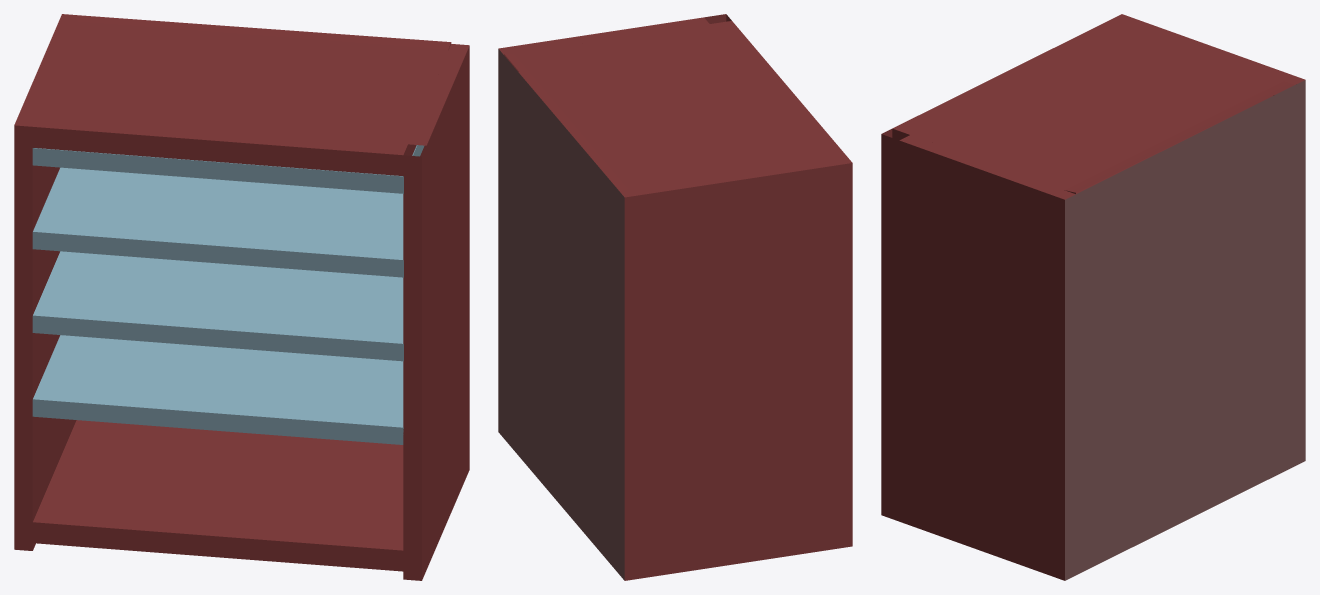
The model's file is MSH_QuestObject_cabinet_05.fbx.
3 renders of one model, left to right at view 1: azimuth 30°, elevation 25°; view 2: azimuth 150°, elevation 25°; view 3: azimuth 270°, elevation 25°, orthographic. The views are drawn at different scales.
Parts seen in each view (by area): view 1: MSH_QuestObject_cabinet_05; view 2: MSH_QuestObject_cabinet_05; view 3: MSH_QuestObject_cabinet_05.
Part boxes in pixels (bbox=[...]): MSH_QuestObject_cabinet_05: bbox=[14, 14, 469, 580]; MSH_QuestObject_cabinet_05: bbox=[498, 14, 852, 580]; MSH_QuestObject_cabinet_05: bbox=[881, 14, 1305, 580].
Size of the model in its own units: 2.32 by 2.23 by 2.24.
